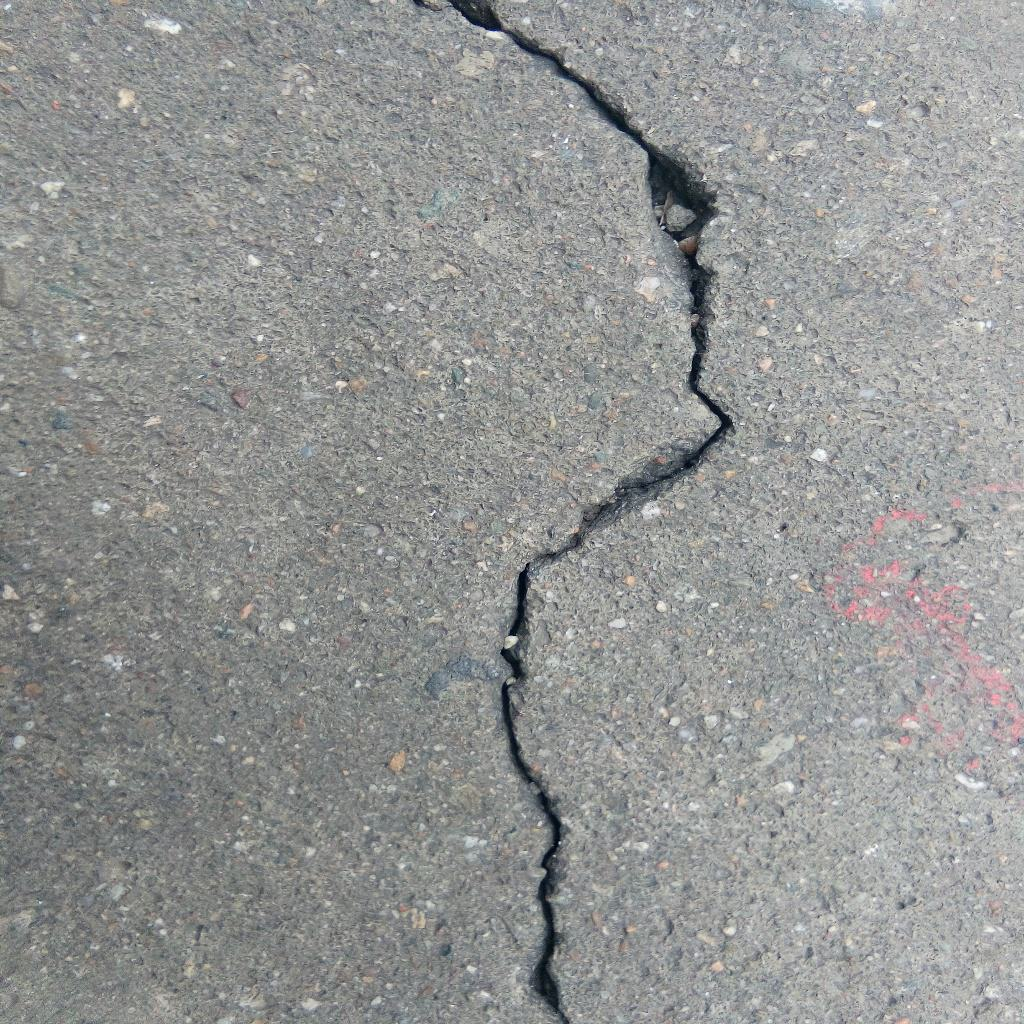Crack: (445, 1, 731, 1024)
